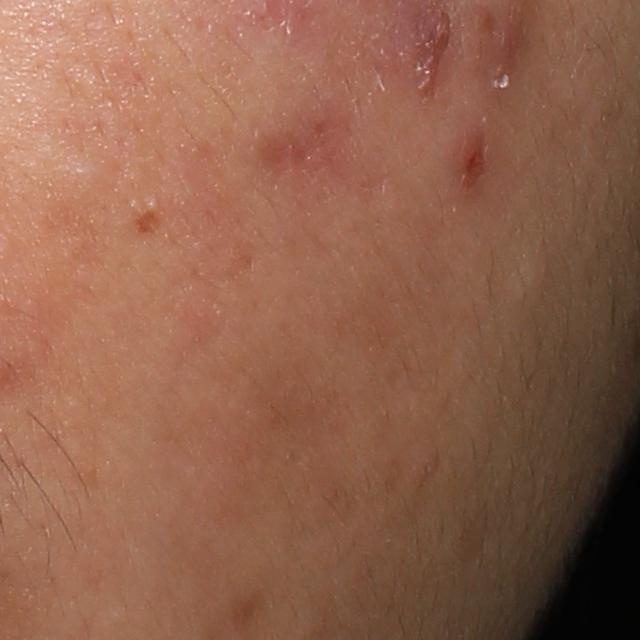comedo: (148, 197, 160, 211)
papule: (447, 135, 493, 186)
